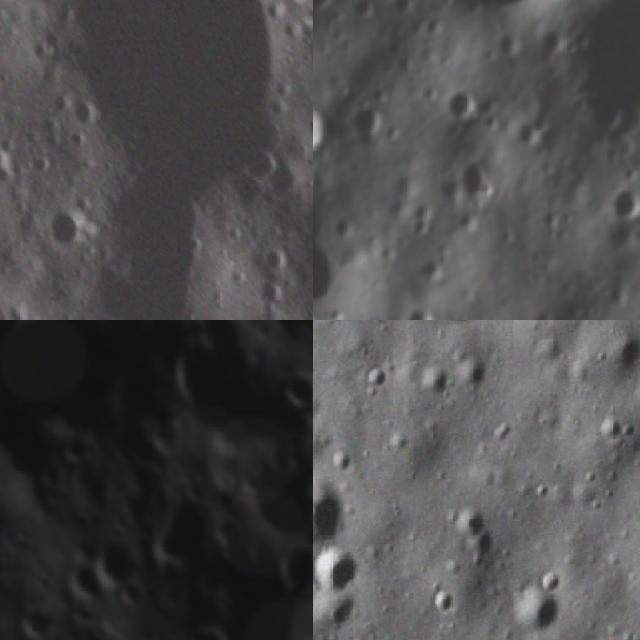crater: (532, 0, 640, 145), (135, 485, 222, 578), (313, 189, 374, 320), (232, 453, 313, 551), (94, 530, 154, 592), (425, 0, 551, 22), (506, 591, 562, 640), (313, 551, 366, 602), (345, 89, 393, 143), (313, 475, 345, 554), (269, 359, 313, 416), (438, 79, 486, 130), (61, 557, 107, 606), (10, 597, 61, 640), (453, 150, 494, 202), (54, 426, 97, 474), (44, 204, 86, 251), (0, 132, 29, 200), (172, 611, 240, 640), (603, 180, 640, 229), (413, 361, 454, 404), (261, 238, 302, 277), (387, 298, 447, 320), (464, 356, 497, 396), (313, 92, 331, 161), (592, 415, 627, 449), (242, 147, 278, 180), (71, 96, 104, 131), (73, 304, 139, 320), (361, 366, 389, 401), (416, 320, 490, 333), (0, 0, 55, 17), (432, 585, 458, 616), (261, 278, 289, 304), (346, 0, 379, 22), (300, 454, 313, 505), (525, 310, 566, 320), (0, 541, 5, 576)
